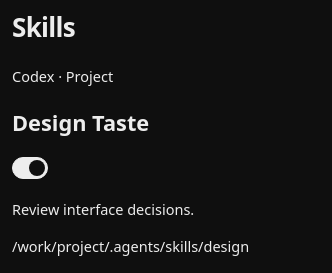
it: Agent Skills settings › keeps a confirmed toggle ahead of an older inventory refresh
Click the switch named "Disable Design Taste" at (30, 168), box [12,158,48,180]
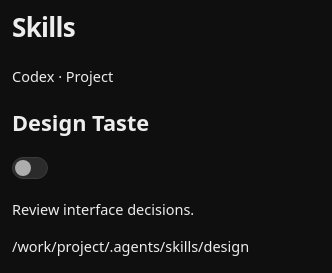
Expected: the switch named "Enable Design Taste" is shown, [12,158,48,180]
